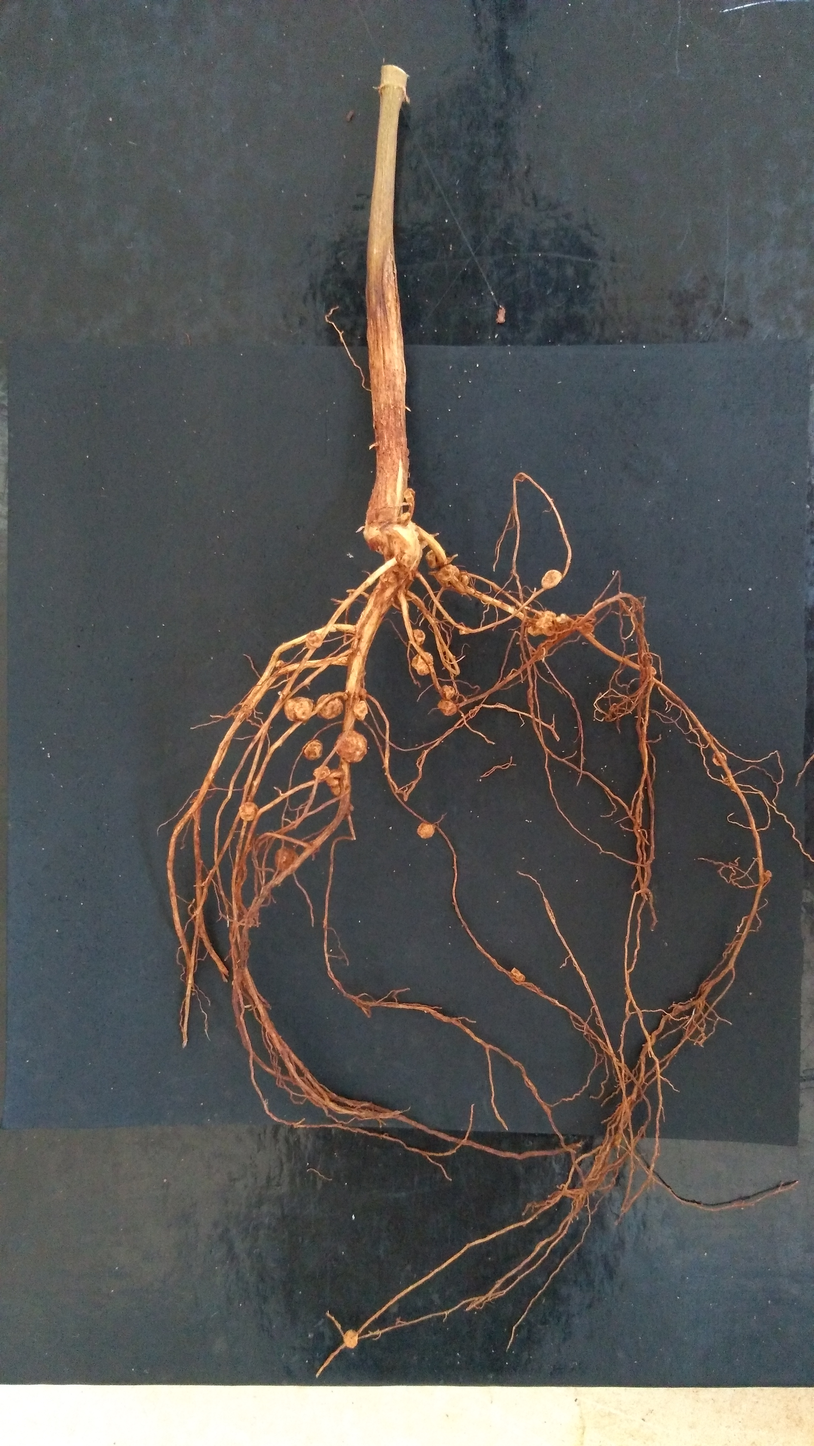nodule: (527, 611, 567, 637), (335, 731, 367, 762), (284, 696, 313, 721), (316, 695, 343, 719), (435, 564, 459, 588), (275, 847, 299, 871), (411, 652, 433, 676), (304, 739, 323, 761), (425, 550, 447, 568), (239, 802, 258, 821), (542, 570, 562, 588), (438, 698, 457, 716), (305, 631, 323, 649), (452, 571, 469, 590), (353, 701, 368, 721), (417, 822, 434, 839), (344, 1329, 358, 1348), (409, 629, 425, 645), (511, 967, 525, 985), (326, 778, 340, 796), (440, 684, 454, 700), (642, 666, 656, 682), (712, 752, 727, 766), (314, 766, 330, 779), (763, 870, 772, 885), (401, 512, 410, 523), (459, 627, 471, 635), (359, 688, 367, 700), (437, 644, 446, 652), (275, 660, 285, 667)
